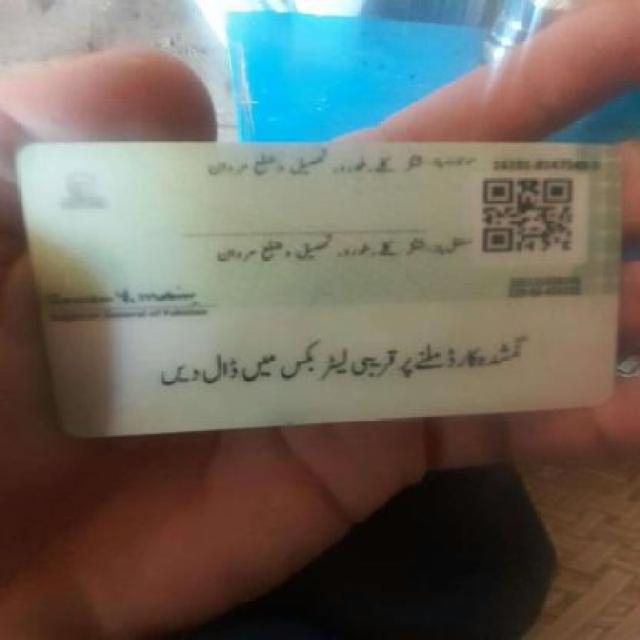Back: (9, 133, 626, 430)
